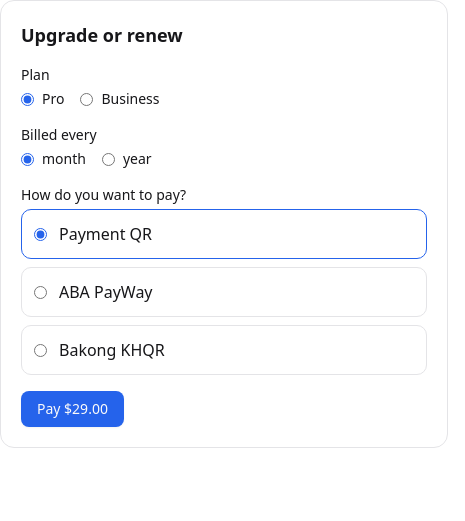
Test case: PlanCheckoutForm › pays for the picked plan and period with the picked method, showing its price
Expected: the element "Plan" is shown, left=21, top=65, right=160, bottom=108
Expected: the radio button labelled "Pro" is checked, left=21, top=92, right=34, bottom=106
Click the radio button labelled "Business" at (87, 99), box left=80, top=92, right=94, bottom=106
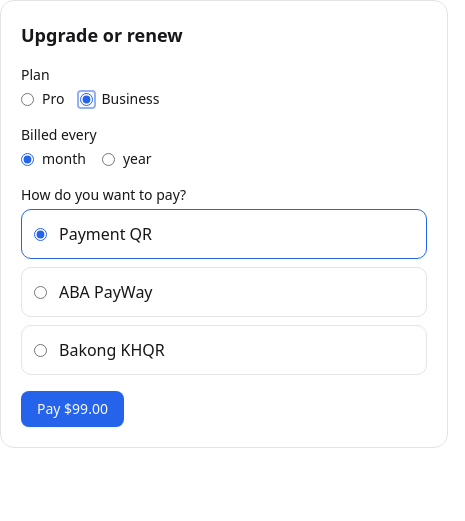
Click the radio button labelled "year" at (108, 159), box left=102, top=152, right=115, bottom=166
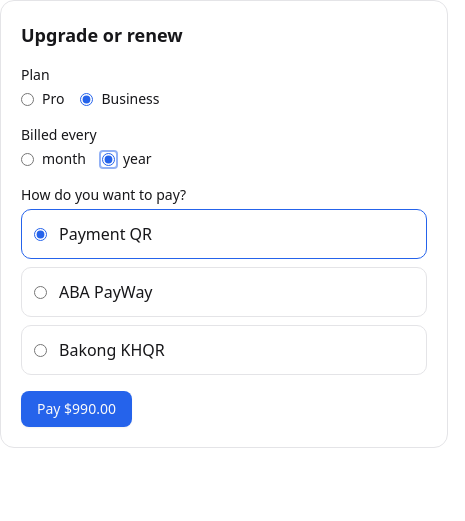
Click the button "Pay $990.00" at (76, 409), box left=21, top=391, right=132, bottom=427
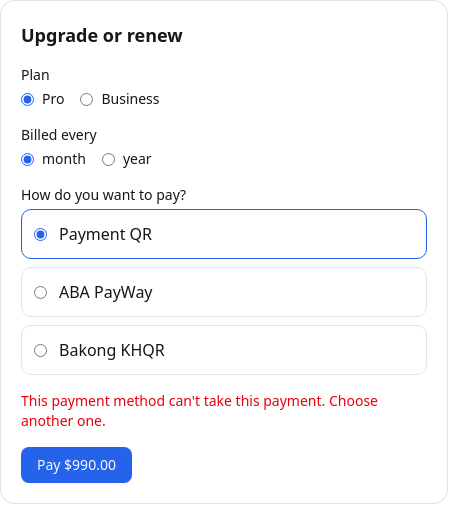
Expected: the message shows "This payment method can't take this payment.", left=21, top=391, right=378, bottom=430
